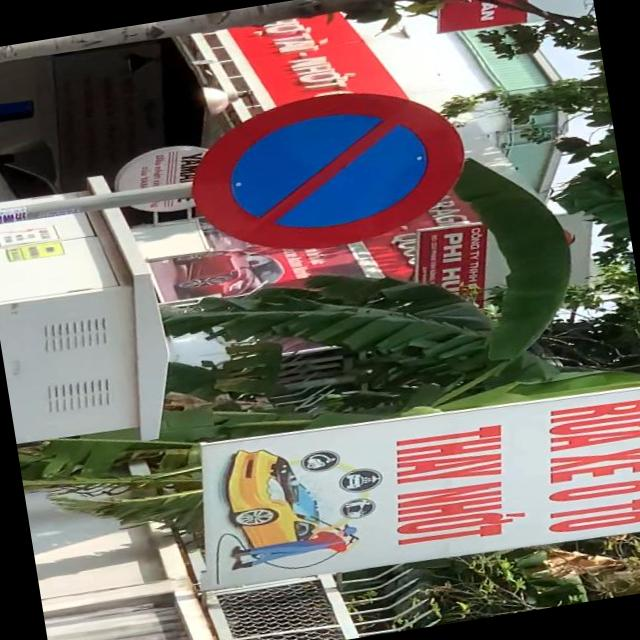P-131a: (182, 81, 473, 266)
